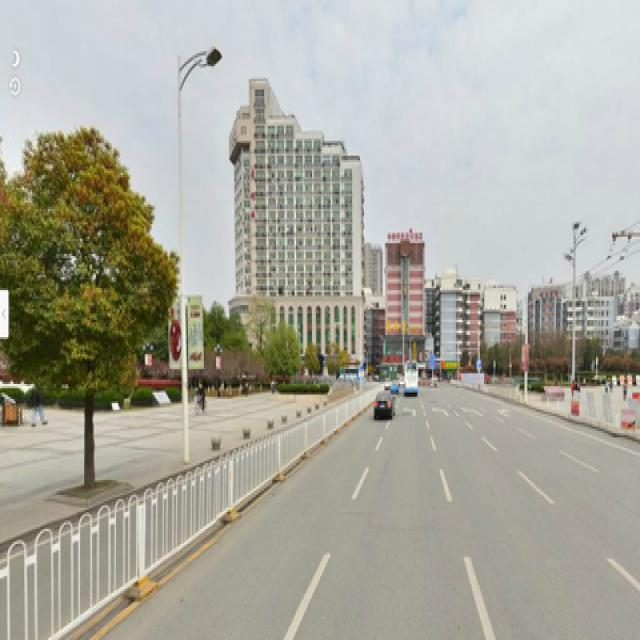cinn: (8, 132, 168, 480)
